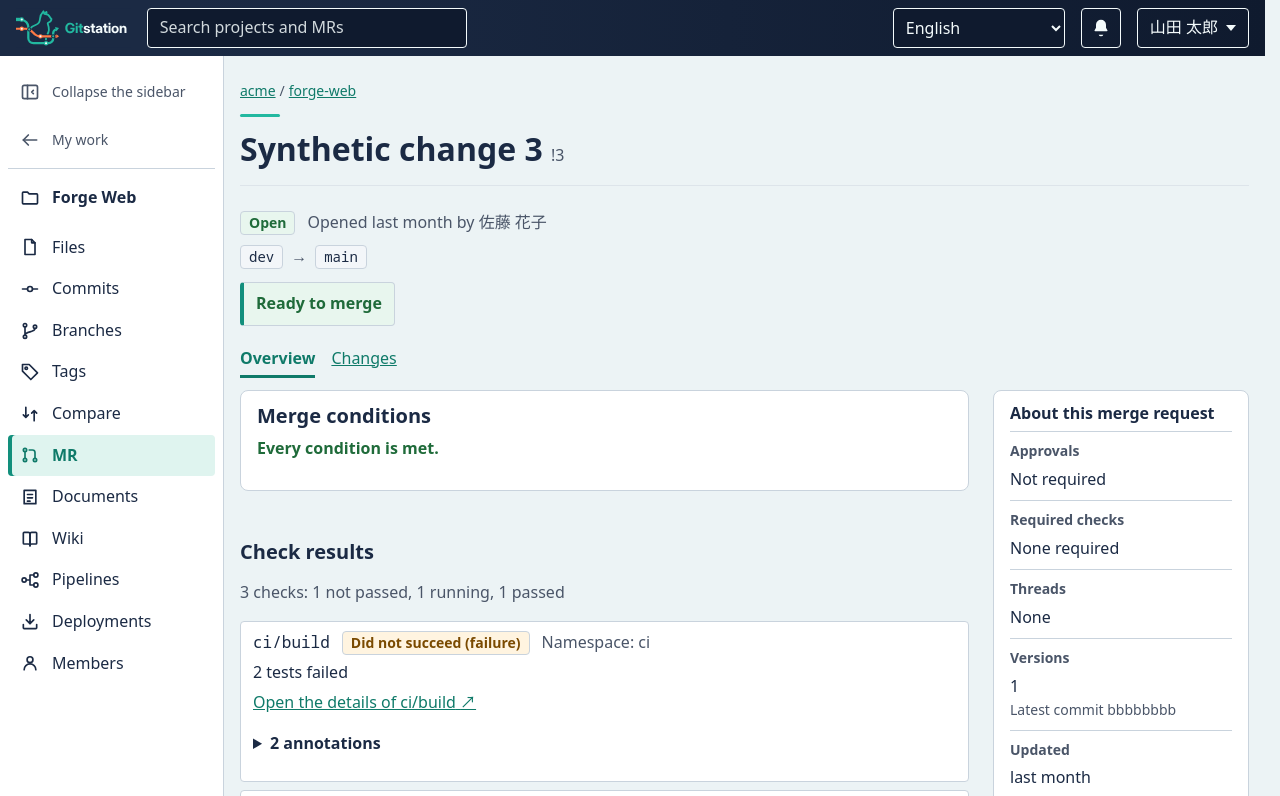
Test case: merge request check runs › lists the runs of the head: name, namespace, result, summary, link and annotations with file:line
This screenshot has width=1280, height=796.
expect the heading "Synthetic change 3 !3" is shown: met, box [240,127,564,170]
expect the text "ci/build" is shown: met, box [253,630,330,656]
Click the heading "2 annotations": (325, 743) [270,732,381,754]
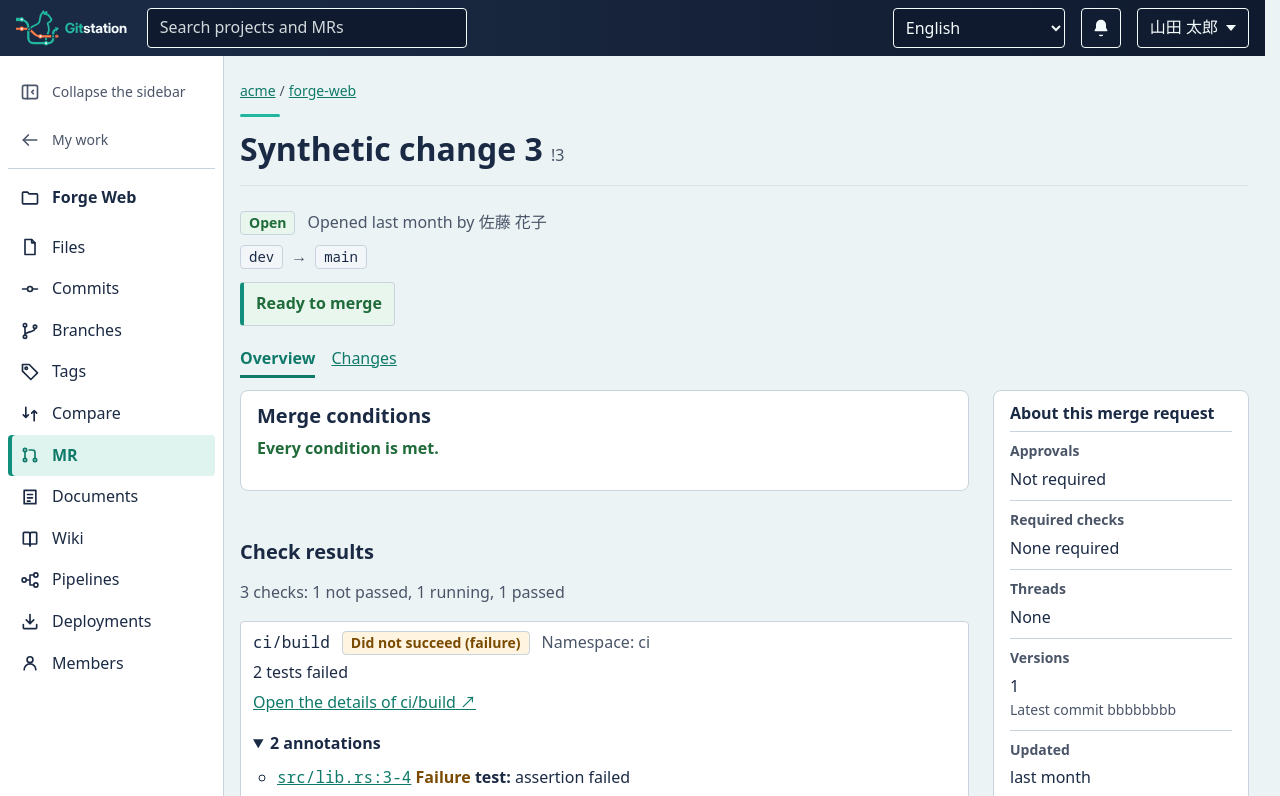
expect the text "Failure" is shown: met, box [416,766,471,788]
expect the list item "src/lib.rs:3-4 Failure test: assertion failed" is shown: met, box [277,766,630,788]
